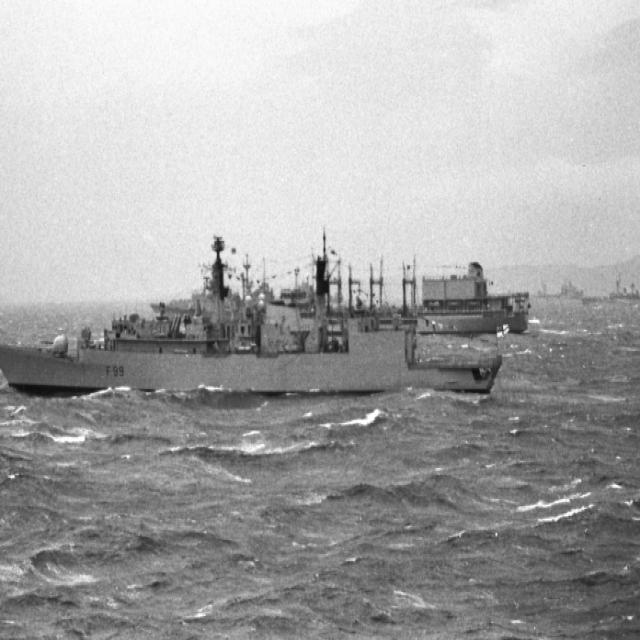Fragata: (1, 227, 505, 403)
